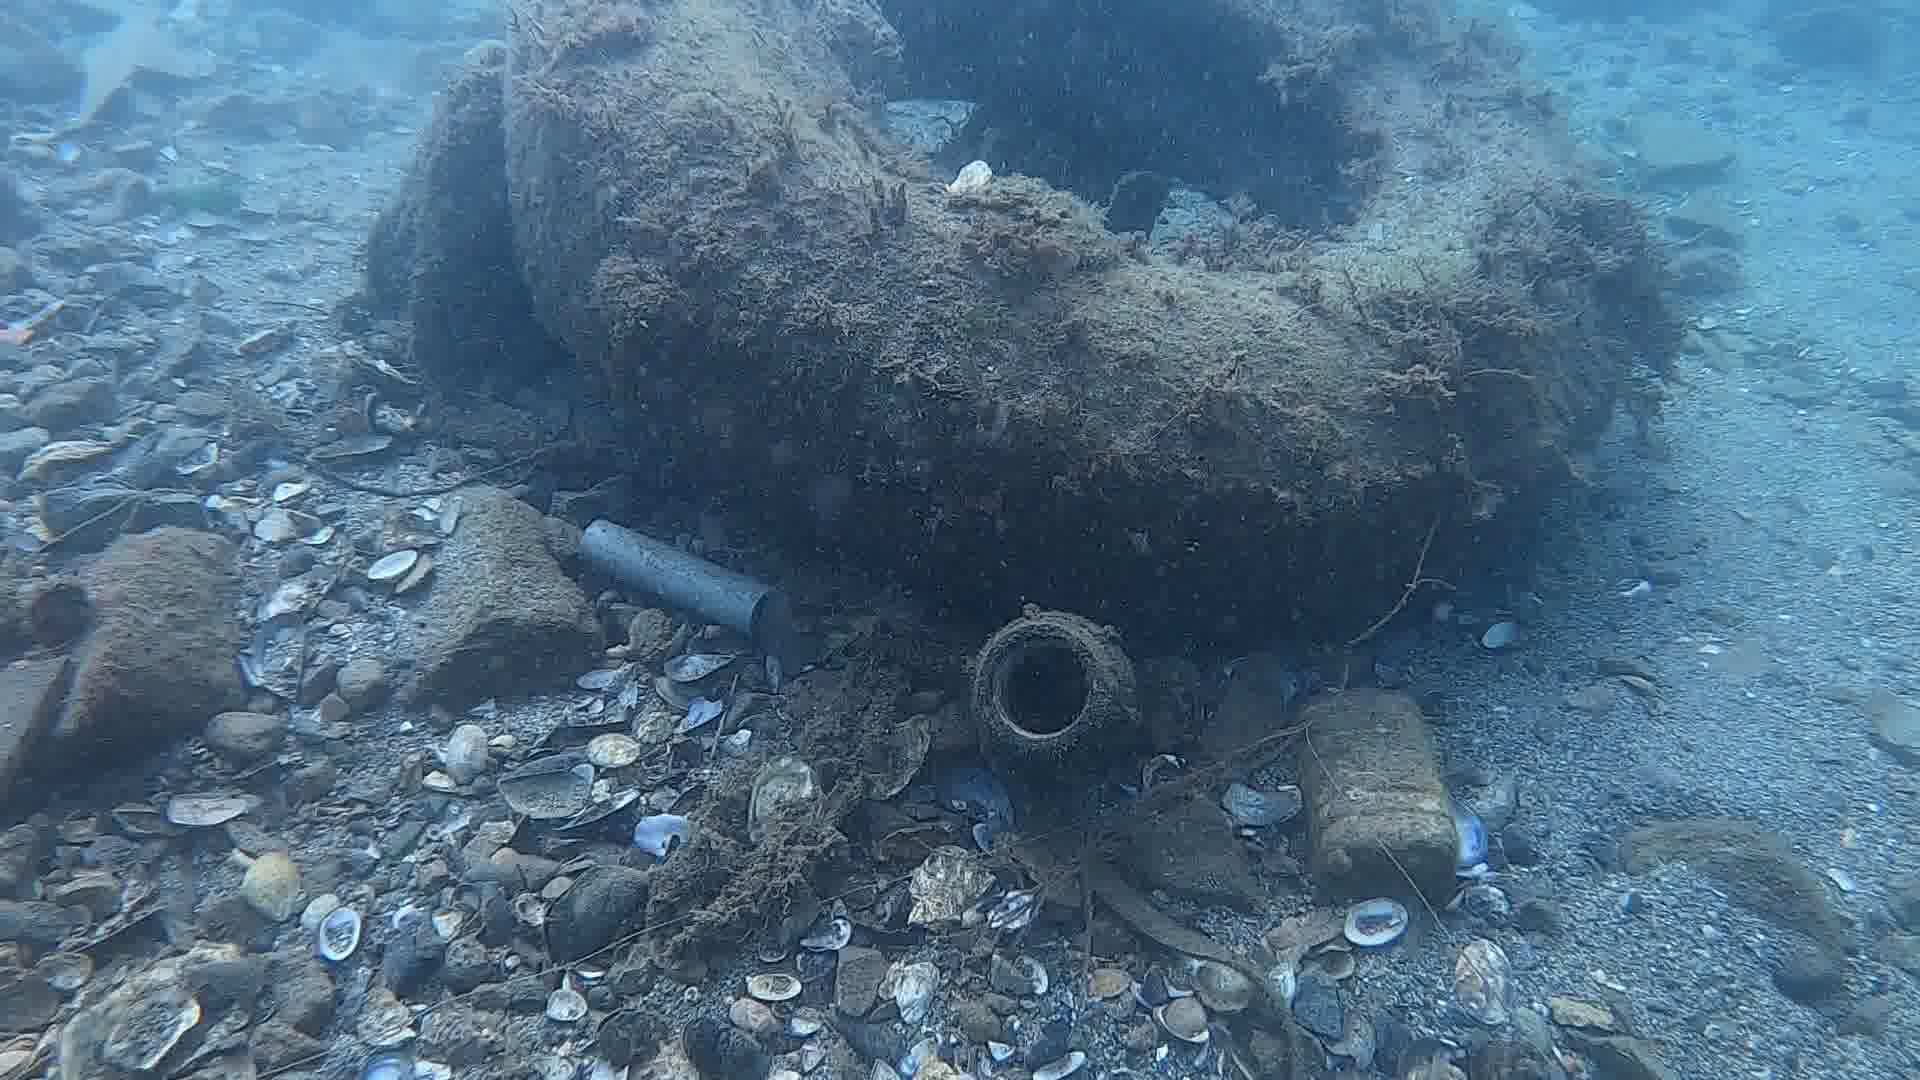tire: (497, 0, 1626, 640)
